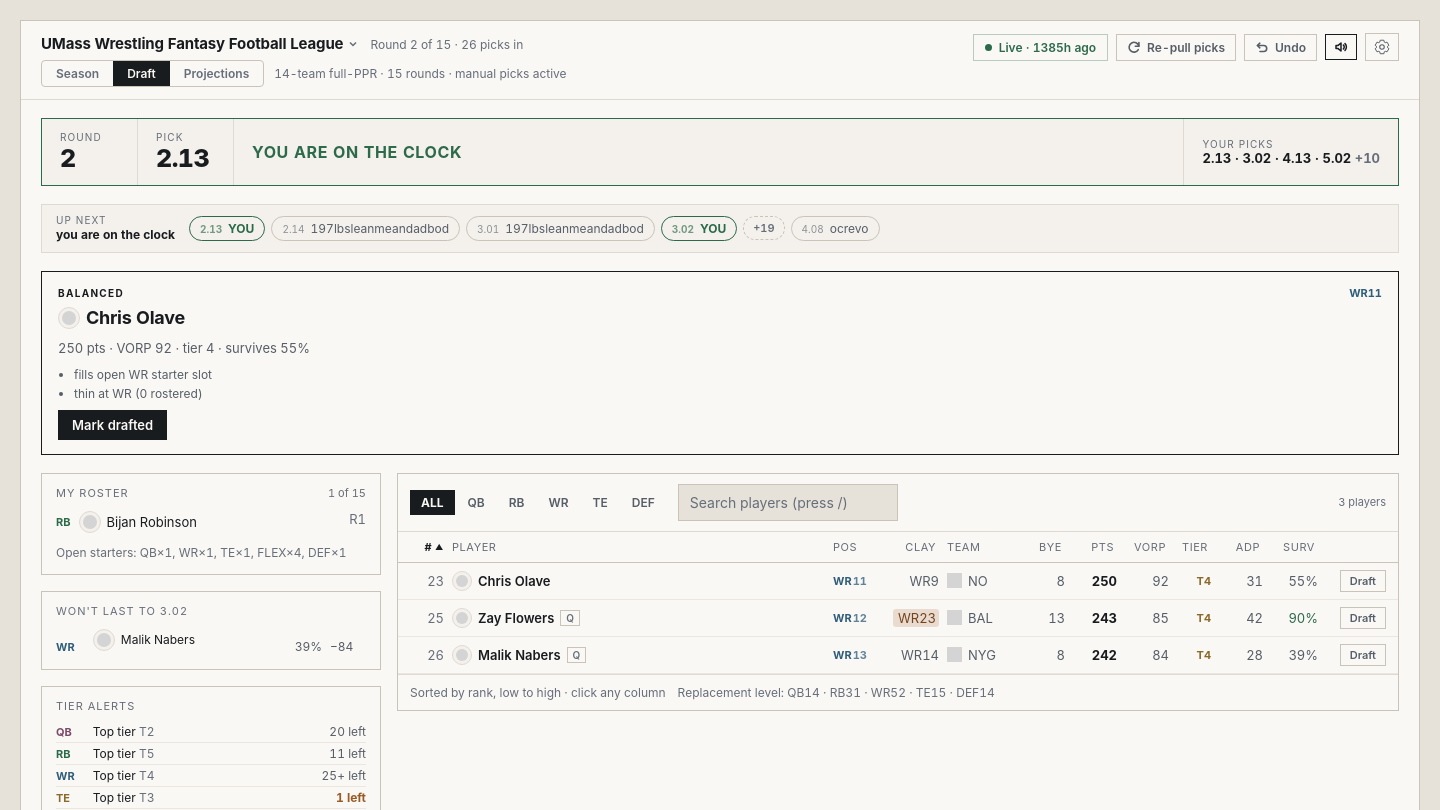
it: the import projections row › names the source and the load date once something is loaded
Check: the button "UMass Wrestling Fantasy Football League" is shown, box [41,33,354,54]
Click the button named "Settings".
click(1382, 47)  # box [1365,33,1399,61]
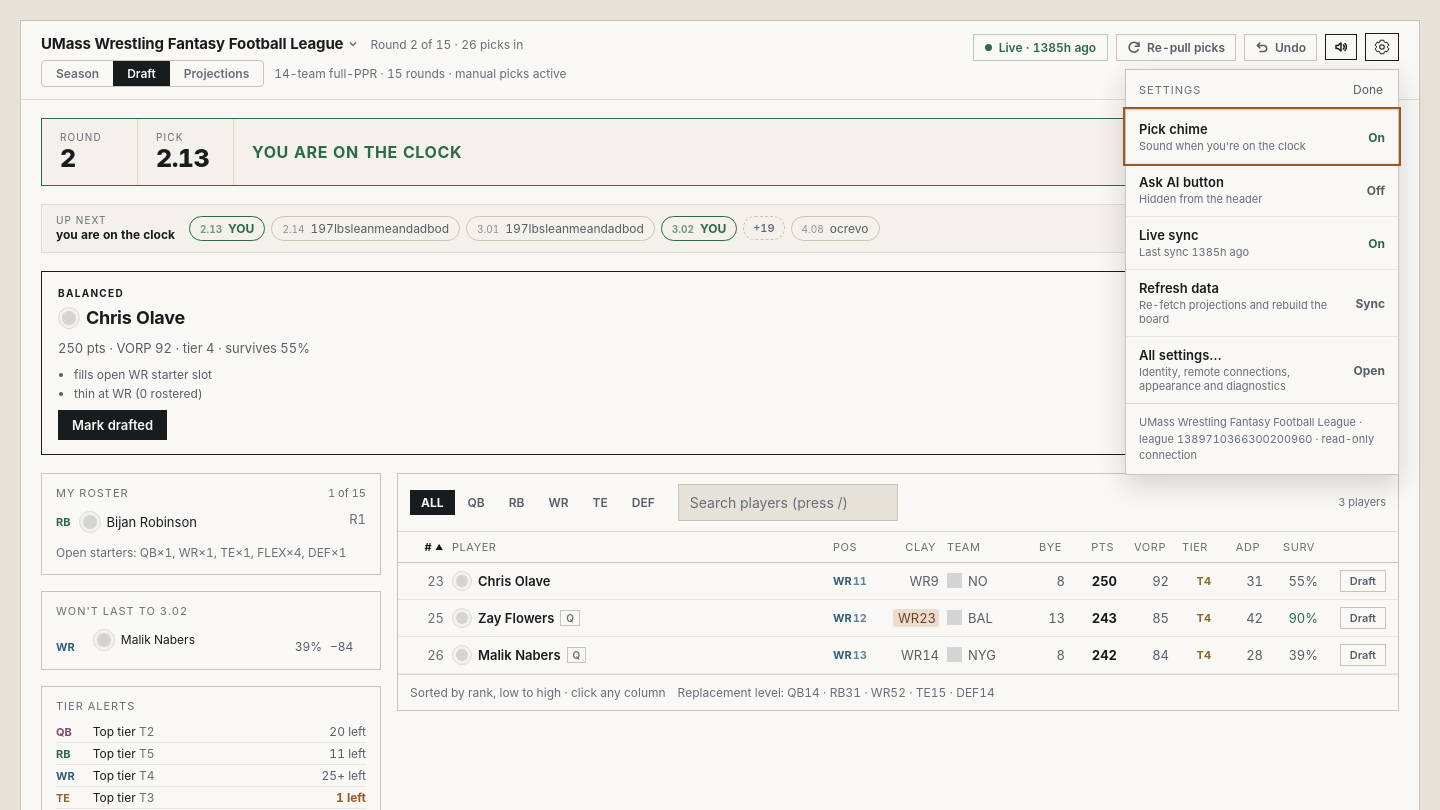
Click the menu item "All settings".
click(1262, 370)  # box [1126,336,1398,403]
(page scrolled)
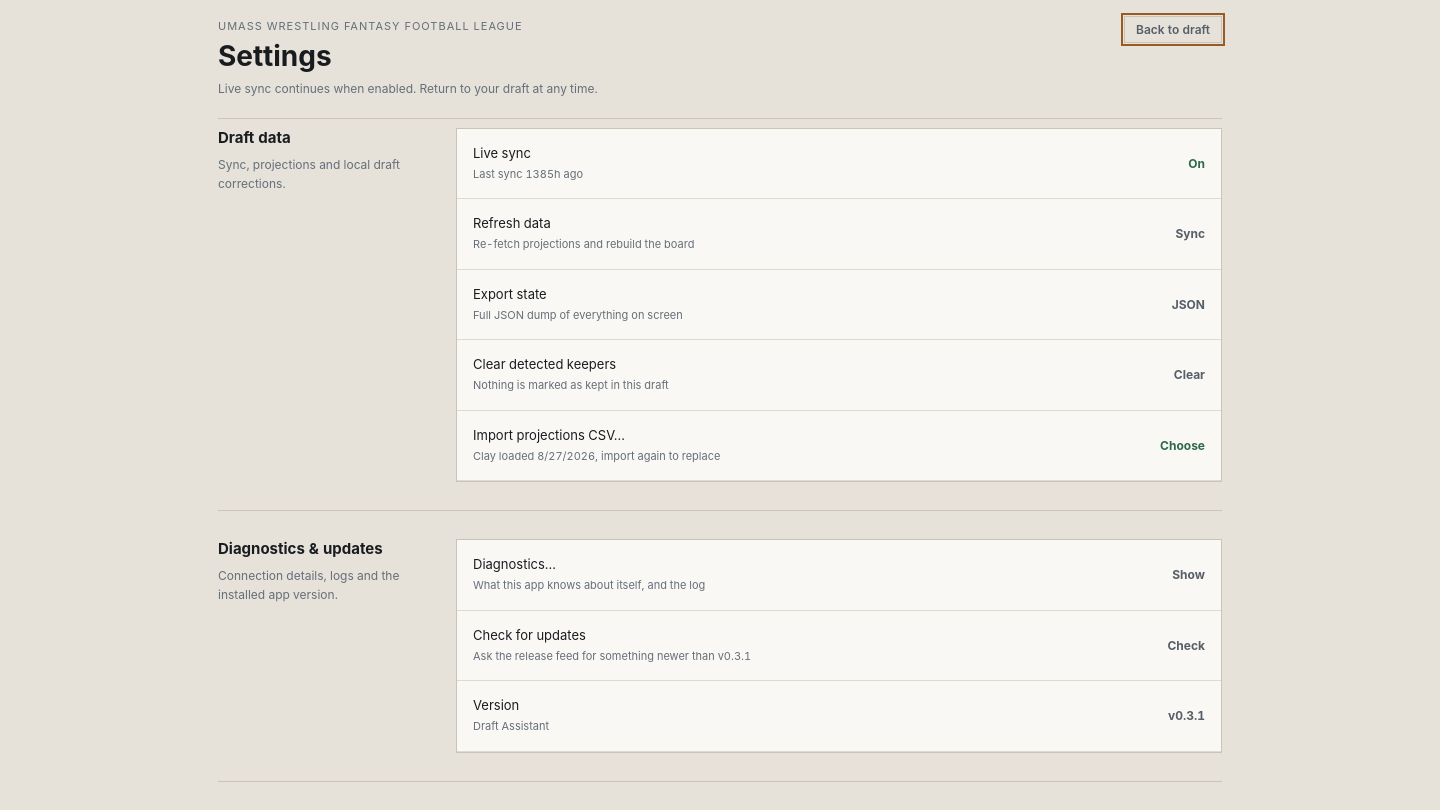
Check: the button "Import projections CSV" shows "Clay loaded", box [457,411,1221,481]
